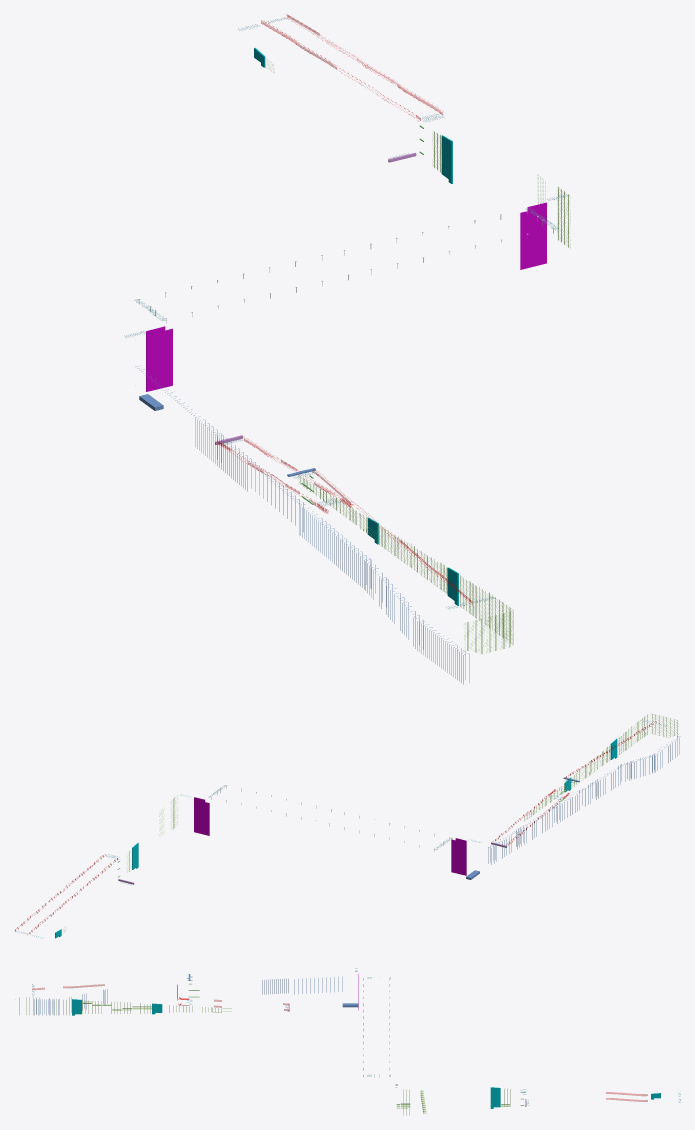
The picture shows the model from 3 angles, top to bottom: view 1: azimuth 30°, elevation 25°; view 2: azimuth 150°, elevation 25°; view 3: azimuth 270°, elevation 25°; orthographic projection. The views are drawn at different scales.
Parts seen in each view (by area): view 1: 1IEzkf000_RJ4pDpasE34o, 1IEzkf000_QJ4pDpasE34m, 1IG2e50003tZ4pDpavCpam; view 2: 1IEzkf000_RJ4pDpasE34o, 1IEzkf000_QJ4pDpasE34m; view 3: no part large enough to name.
Part boxes in pixels (left/top/right/bottom): 1IEzkf000_RJ4pDpasE34o: left=146, top=326, right=172, bottom=391; 1IEzkf000_QJ4pDpasE34m: left=520, top=202, right=546, bottom=269; 1IG2e50003tZ4pDpavCpam: left=300, top=505, right=366, bottom=589; 1IEzkf000_RJ4pDpasE34o: left=451, top=838, right=466, bottom=875; 1IEzkf000_QJ4pDpasE34m: left=194, top=797, right=209, bottom=835.
Bounding box in the file's own units: 56.53 × 10.8 × 133.
